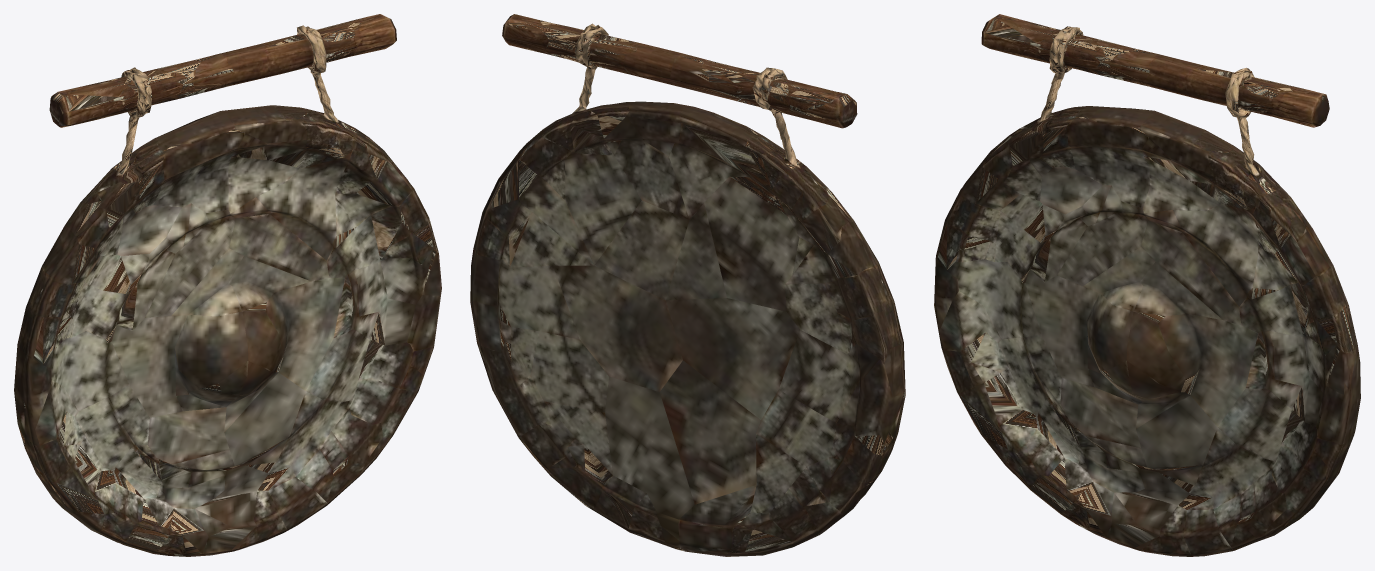
Rendered from cong-chieng.glb.
3 views of the same model, side by side, from view 1: azimuth 30°, elevation 25°; view 2: azimuth 150°, elevation 25°; view 3: azimuth 330°, elevation 25° (orthographic). The views are drawn at different scales.
Bounding box in the file's own units: 0.8839 × 0.9978 × 0.1386.
1 material, 1 textured.
